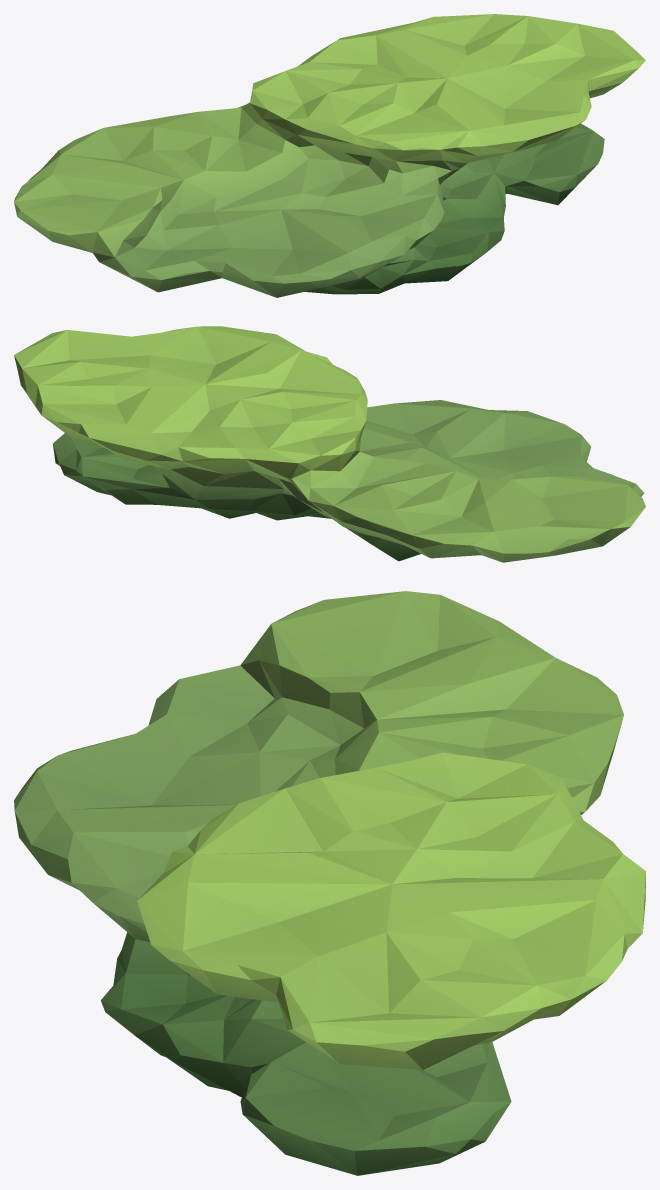
File: SM_Coral_35.fbx
The picture shows the model from 3 angles, top to bottom: view 1: azimuth 30°, elevation 25°; view 2: azimuth 150°, elevation 25°; view 3: azimuth 270°, elevation 25°; orthographic projection. The views are drawn at different scales.
Visible parts, largest first — view 1: Coral_35; view 2: Coral_35; view 3: Coral_35.
Part boxes in pixels (bbox=[...]): Coral_35: bbox=[14, 14, 645, 297]; Coral_35: bbox=[14, 326, 645, 562]; Coral_35: bbox=[14, 591, 645, 1175].
Size of the model in its own units: 724 by 161 by 389.
